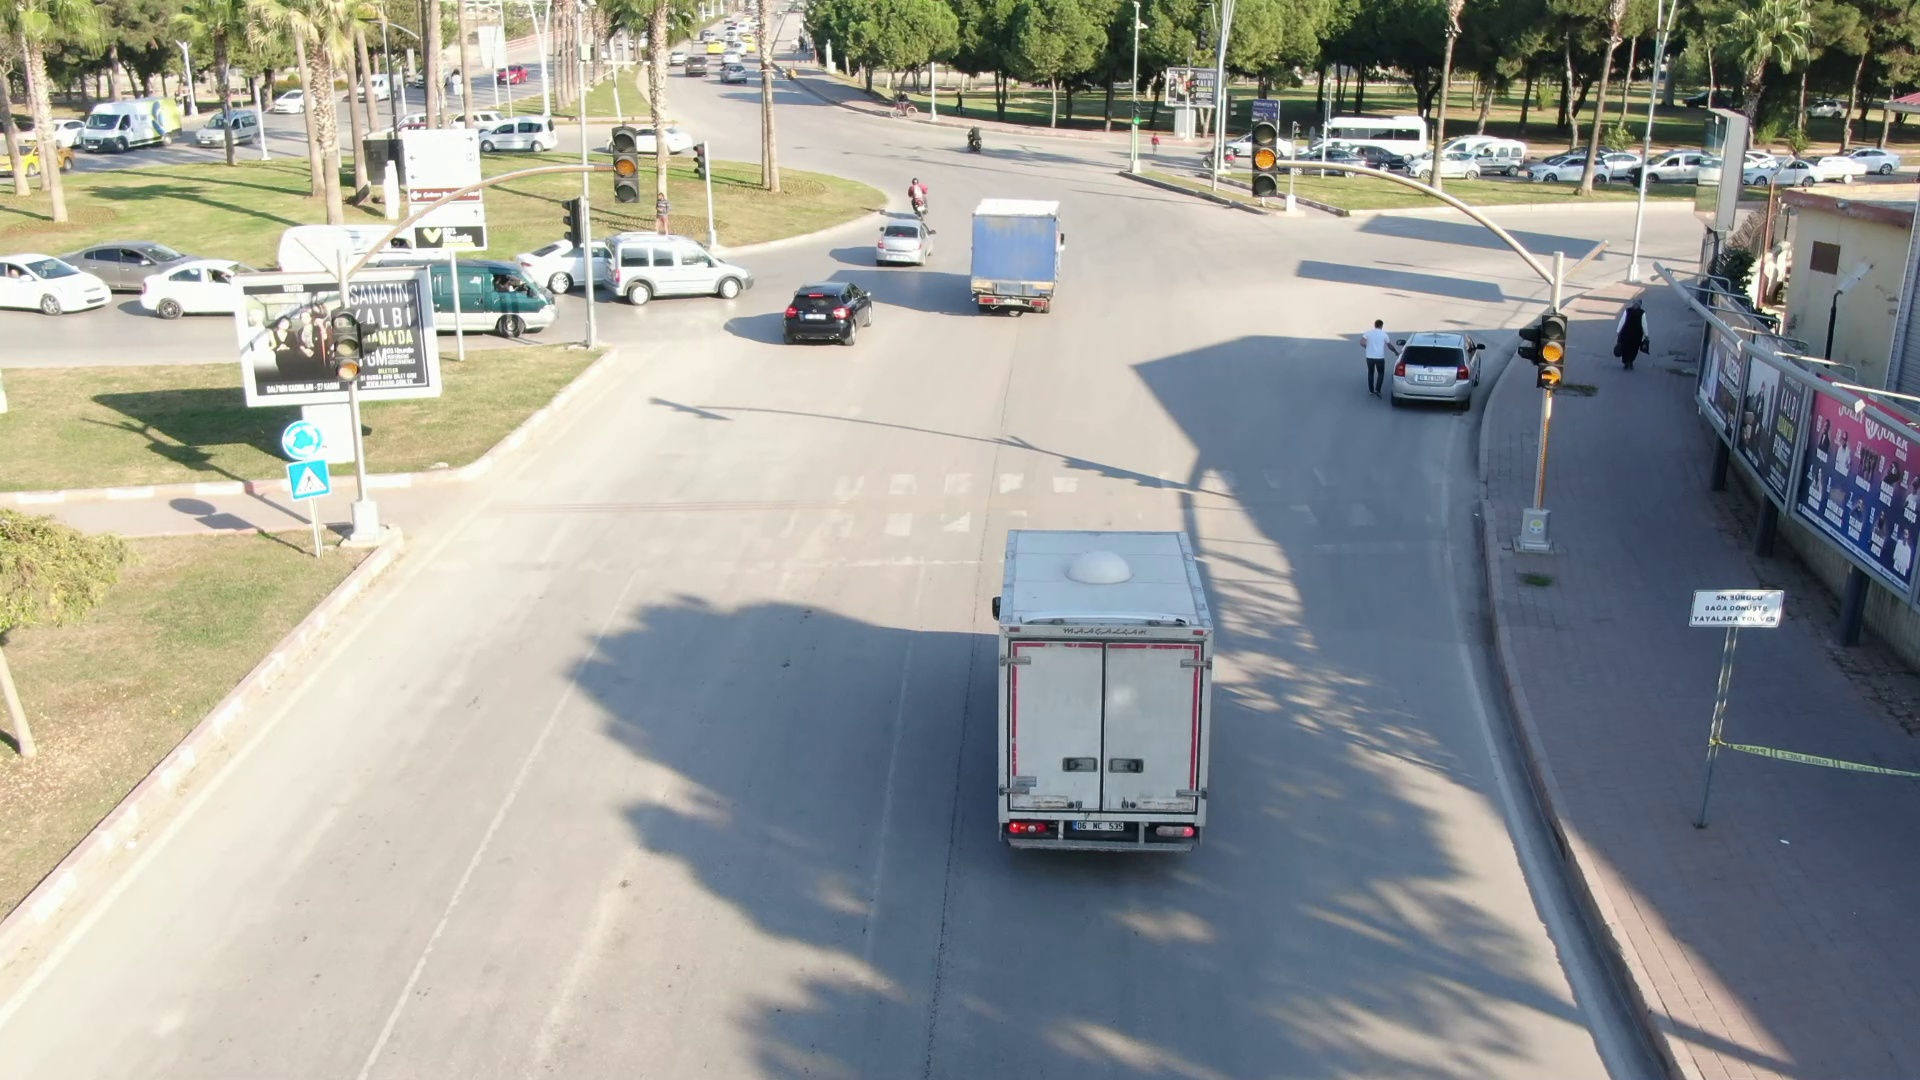car: (955, 513, 1261, 868), (950, 186, 1080, 325), (598, 225, 767, 312), (1389, 324, 1493, 416), (780, 270, 880, 353), (863, 212, 944, 272), (479, 112, 569, 157), (1523, 152, 1619, 192)
person: (1350, 314, 1394, 401), (1609, 297, 1654, 377)
